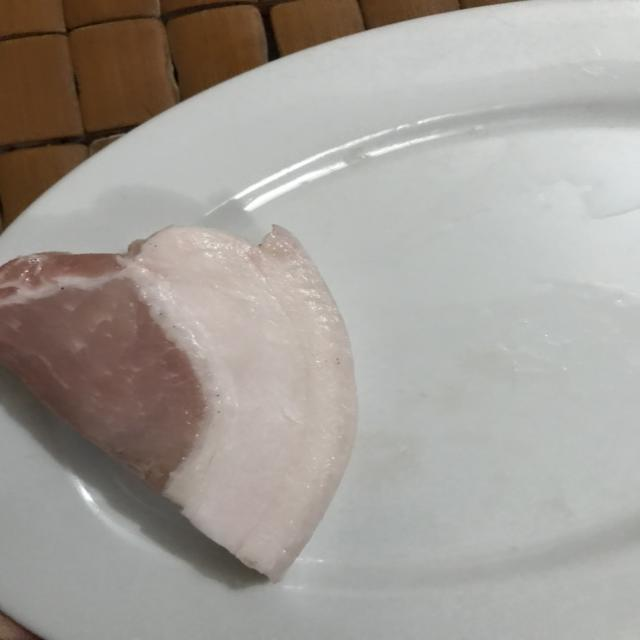chicken: (0, 222, 368, 588)
